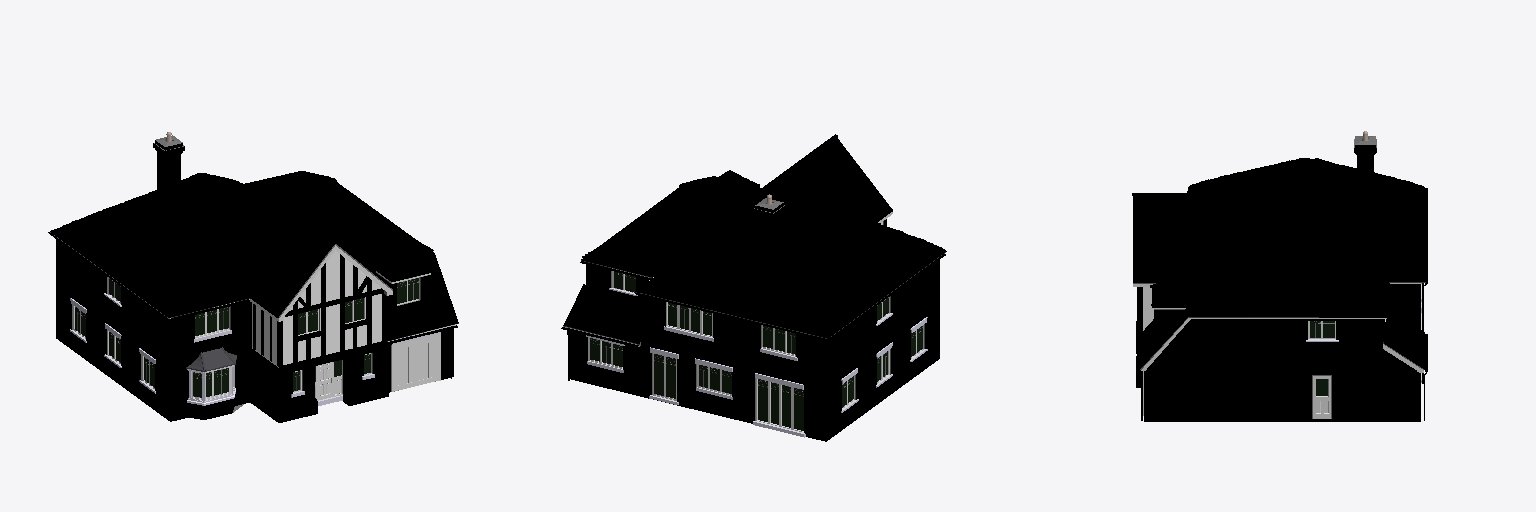
The model's file is CH_building1.obj.
3 views of the same model, side by side, from view 1: azimuth 30°, elevation 25°; view 2: azimuth 150°, elevation 25°; view 3: azimuth 270°, elevation 25° (orthographic).
Parts seen in each view (by area): view 1: polySurface1 CH_Building; view 2: polySurface1 CH_Building; view 3: polySurface1 CH_Building.
Part boxes in pixels (left/top/right/bottom): polySurface1 CH_Building: left=48, top=132, right=458, bottom=422; polySurface1 CH_Building: left=561, top=134, right=946, bottom=441; polySurface1 CH_Building: left=1132, top=131, right=1427, bottom=421.
Bounding box in the file's own units: 32.97 × 24.25 × 31.55.